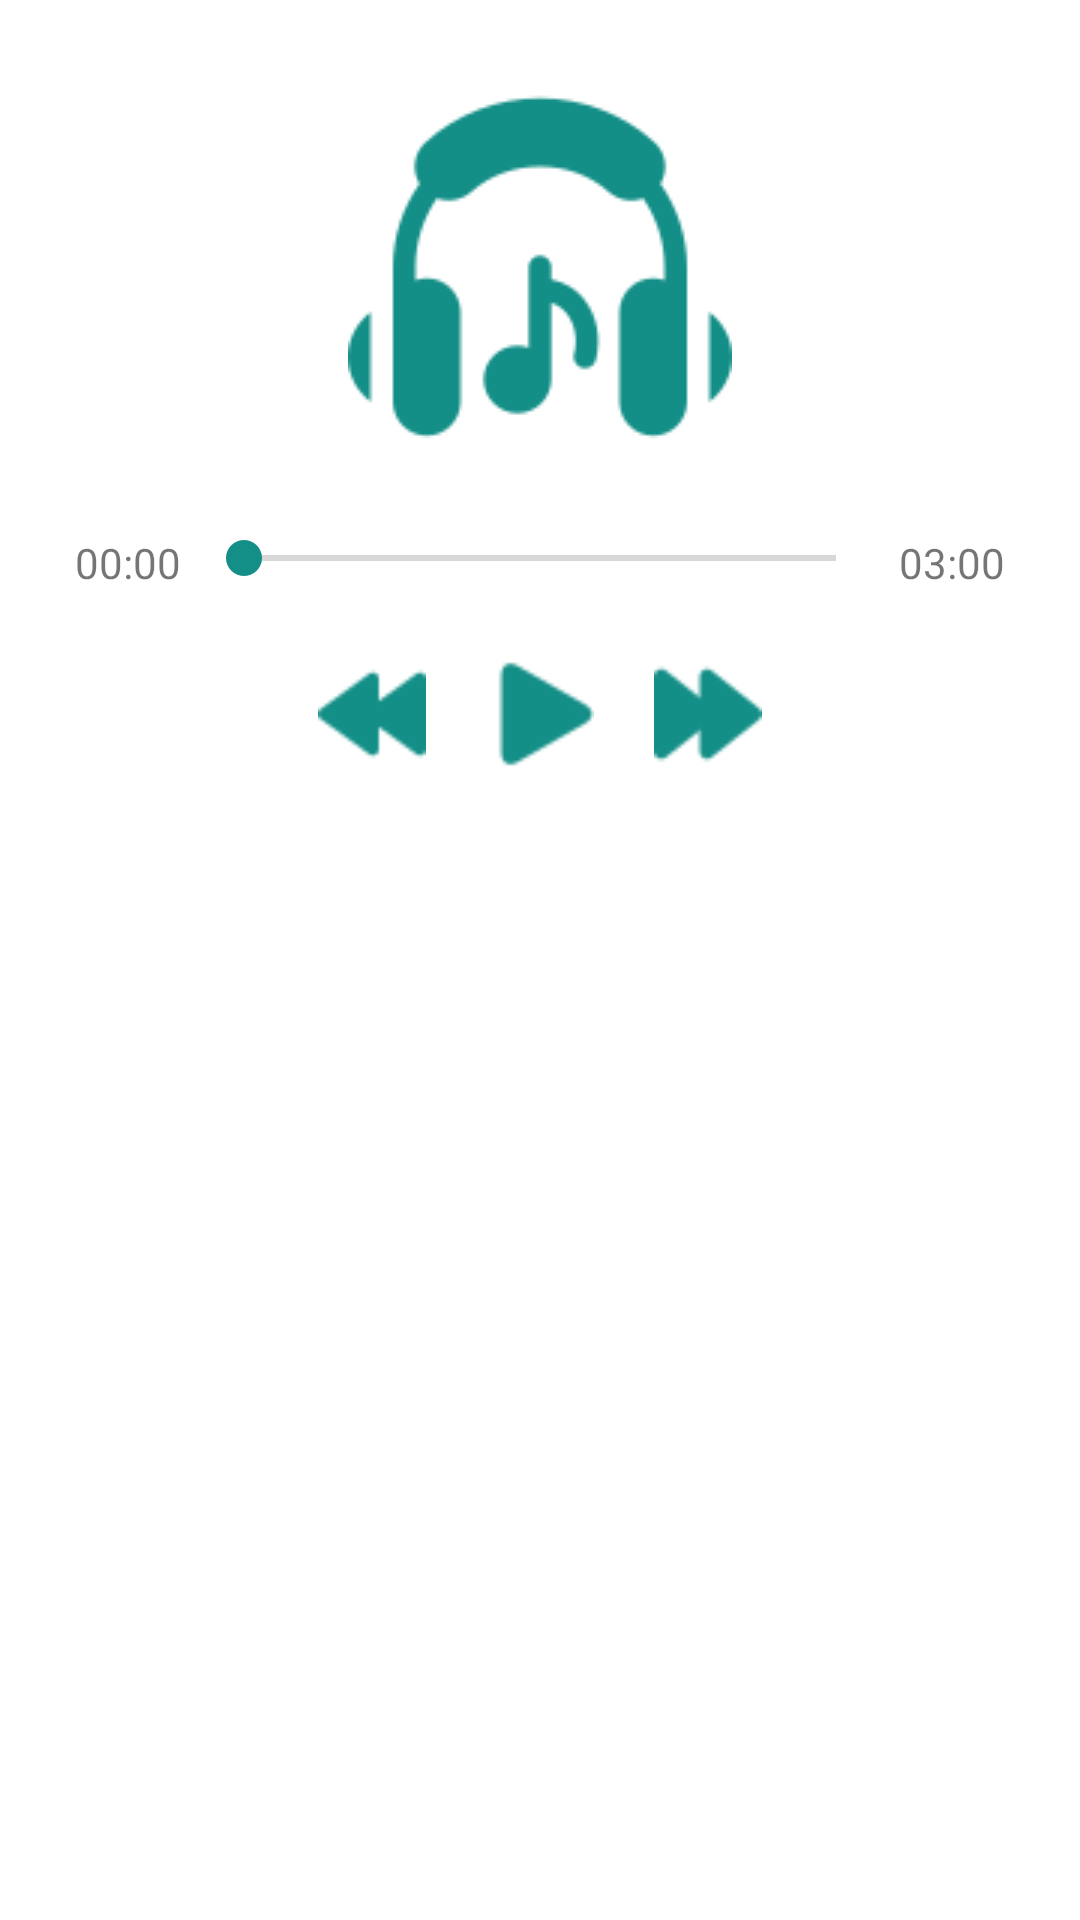

Icon bounding boxes for this 1080w x 1920h phone screenshot, format box=[x1, y1, x2, y2]:
play: box=[499, 662, 594, 766]
play forward: box=[654, 666, 762, 762]
playback: box=[318, 670, 426, 758]
